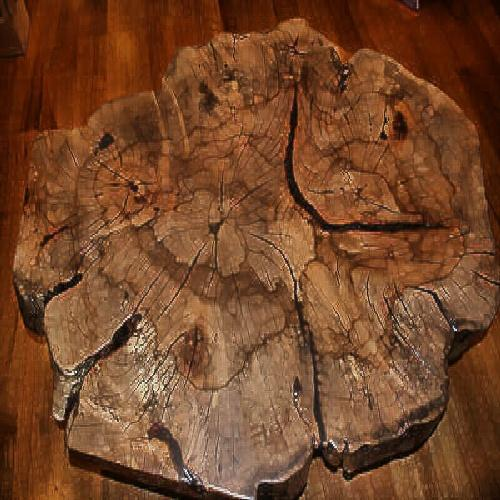table: (34, 40, 484, 460)
